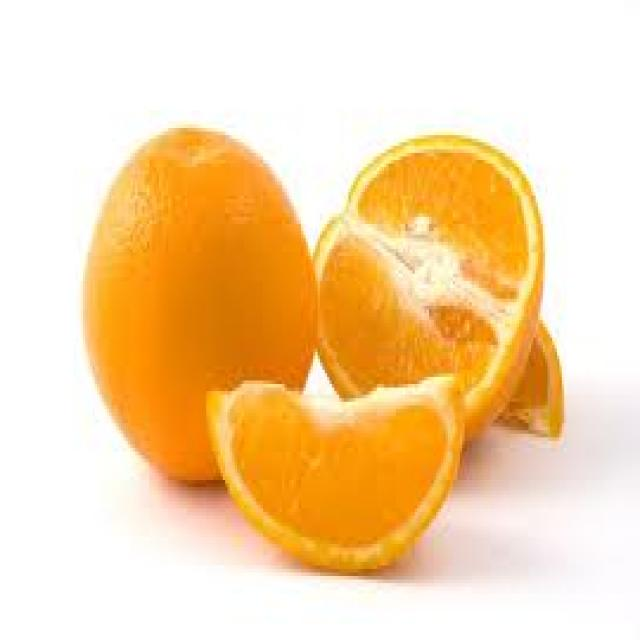orange: (64, 107, 571, 572)
